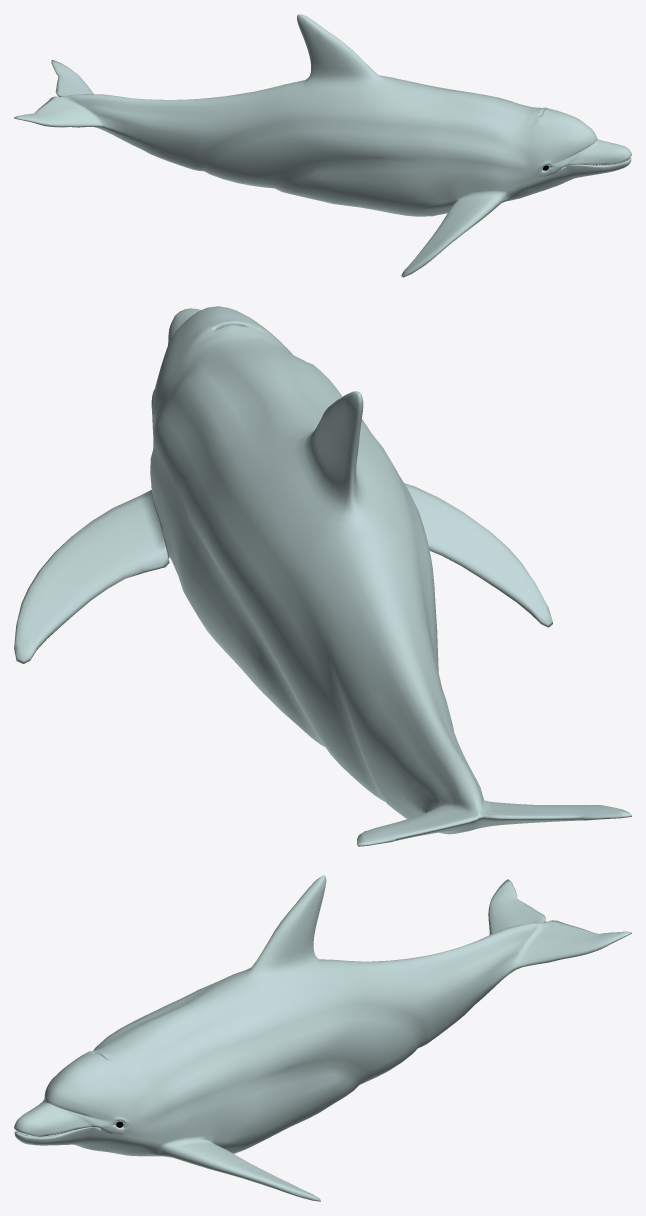
File: dolphin_000009.obj
The picture shows the model from 3 angles, top to bottom: view 1: azimuth 30°, elevation 25°; view 2: azimuth 150°, elevation 25°; view 3: azimuth 270°, elevation 25°; orthographic projection. The views are drawn at different scales.
Parts seen in each view (by area): view 1: Dolphin; view 2: Dolphin; view 3: Dolphin.
Boxes of the visible parts, x1,y1,x2,y2 form: Dolphin: [14, 14, 631, 277]; Dolphin: [14, 306, 631, 846]; Dolphin: [14, 875, 631, 1201].
Bounding box in the file's own units: 5.51 × 2.37 × 5.6.
